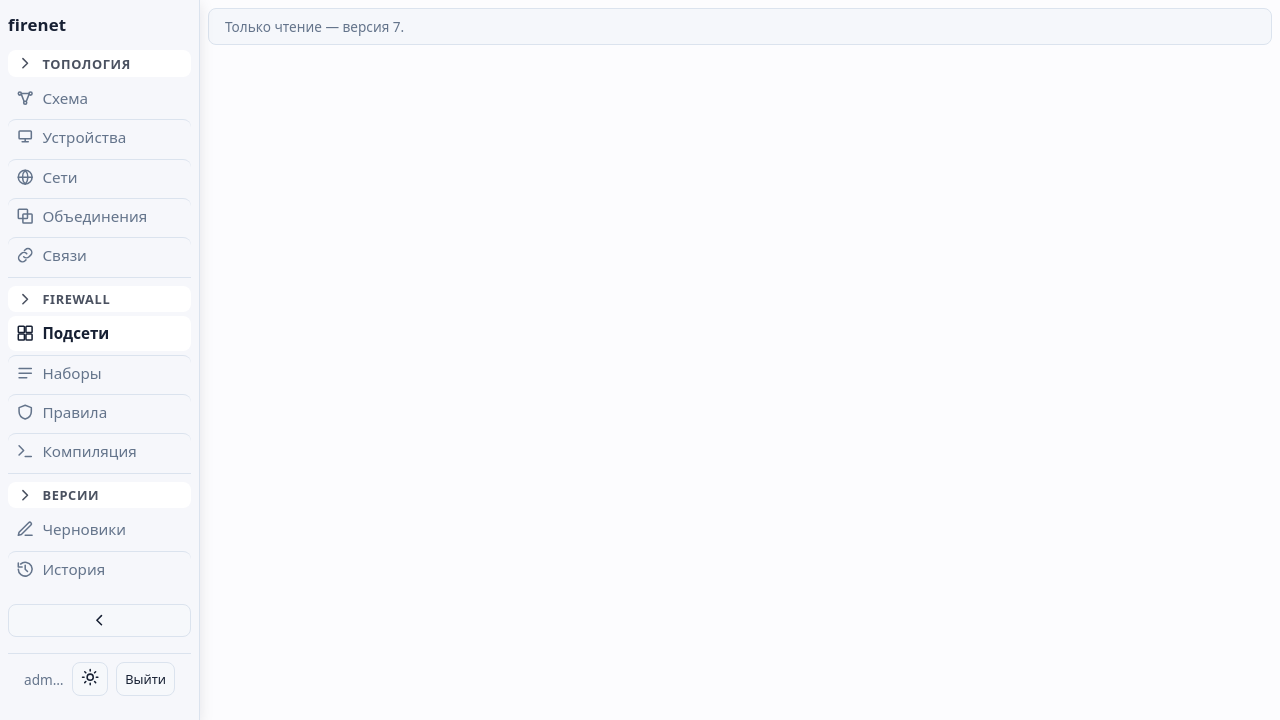
it: Sidebar collapse and theme › collapses via toggle, persists and toggles aria state
The width and height of the screenshot is (1280, 720).
Click the button named "Свернуть меню".
click(100, 621)  # box 8,604 -> 191,637
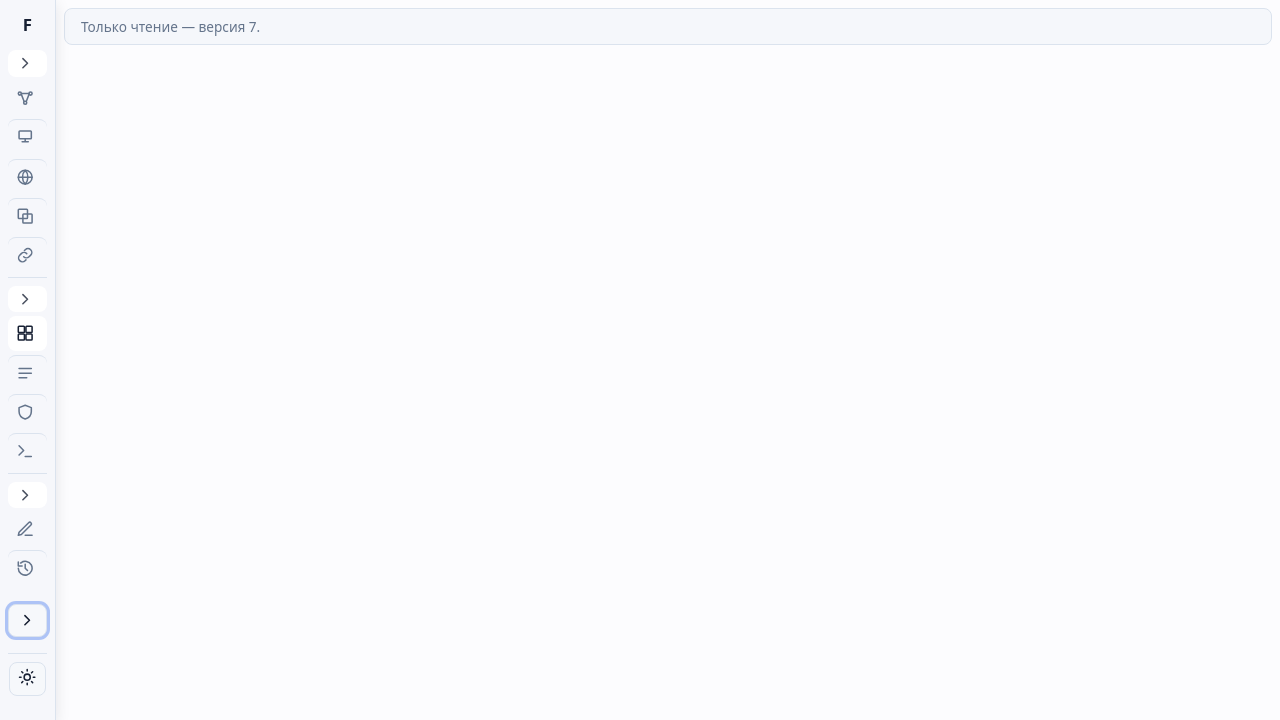
Result: the button named "Свернуть меню" is collapsed at 8,604 -> 47,637
